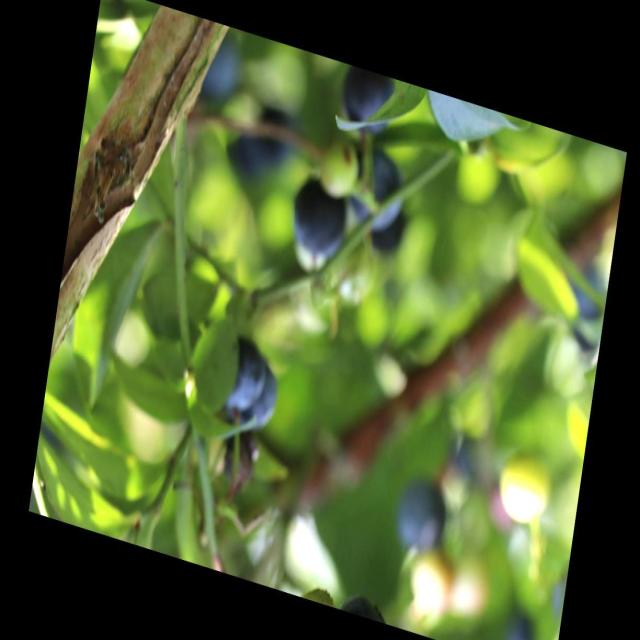blueberry: (214, 331, 284, 438), (288, 171, 350, 264), (344, 147, 408, 237), (392, 474, 452, 560), (336, 62, 398, 142)
